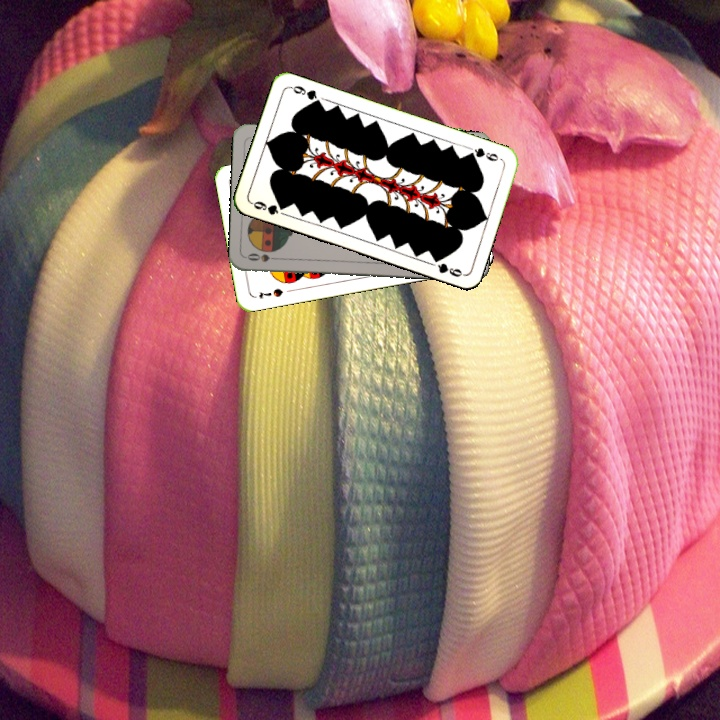G9: (247, 197, 289, 217), (464, 143, 504, 164)
S7: (255, 284, 285, 301)
SO: (243, 249, 284, 264)
